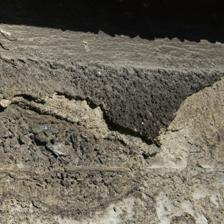Crack: (7, 87, 160, 153)
